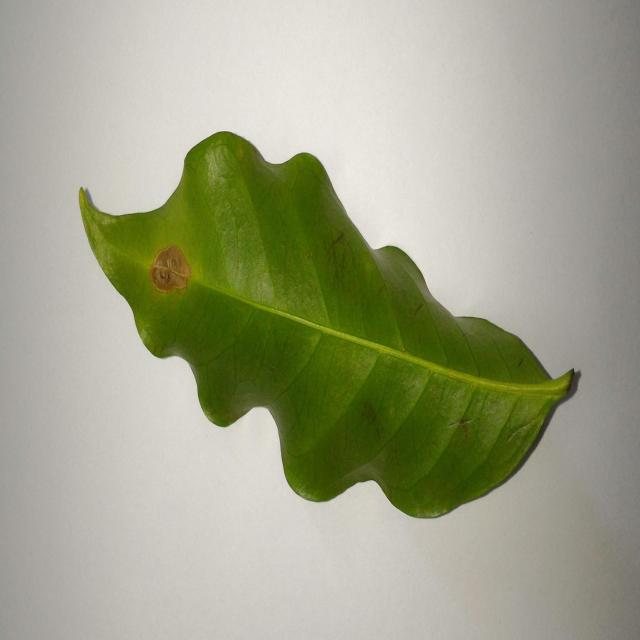Enfermedad-Mancha-de-hierro: (77, 132, 581, 523)
